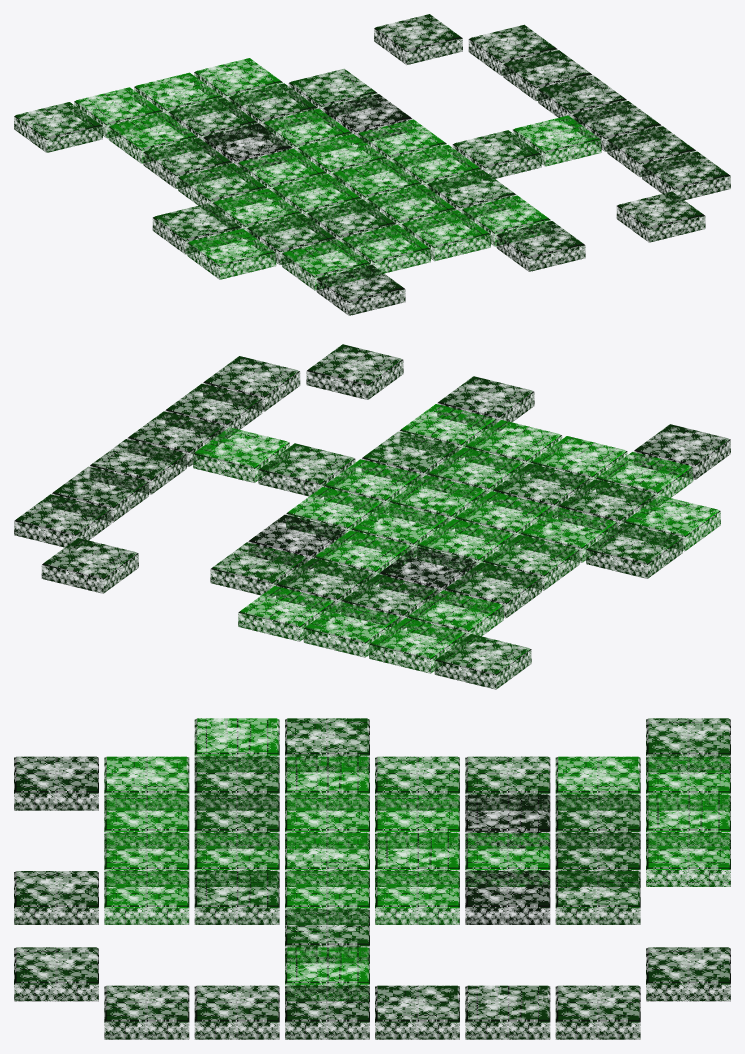
Rendered from rock.glb.
3 renders of one model, top to bottom at view 1: azimuth 30°, elevation 25°; view 2: azimuth 150°, elevation 25°; view 3: azimuth 270°, elevation 25°, orthographic. The views are drawn at different scales.
Parts seen in each view (by area): view 1: Cube; view 2: Cube; view 3: Cube.
Boxes of the visible parts, x1,y1,x2,y2 form: Cube: (14, 14, 730, 315); Cube: (14, 344, 730, 689); Cube: (14, 718, 730, 1039).
Size of what is drawn, in the model's own units: 33.75 by 1 by 33.75.
Materials: 1 (1 with a texture image).
